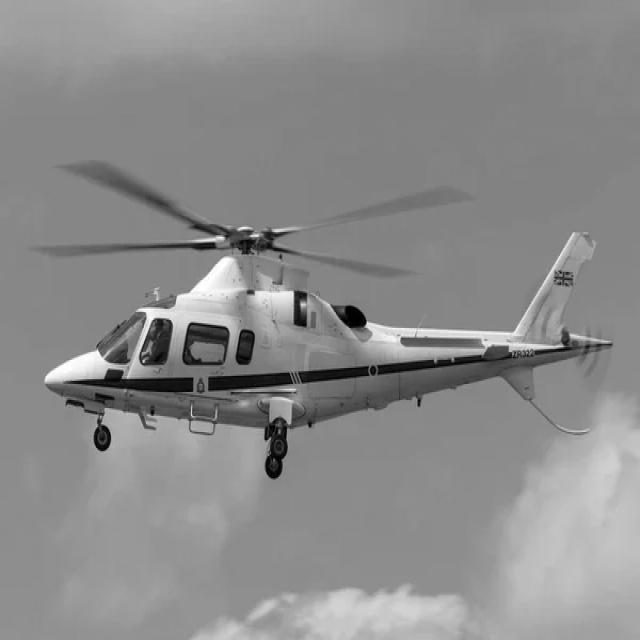Helicopter: (38, 162, 614, 479)
